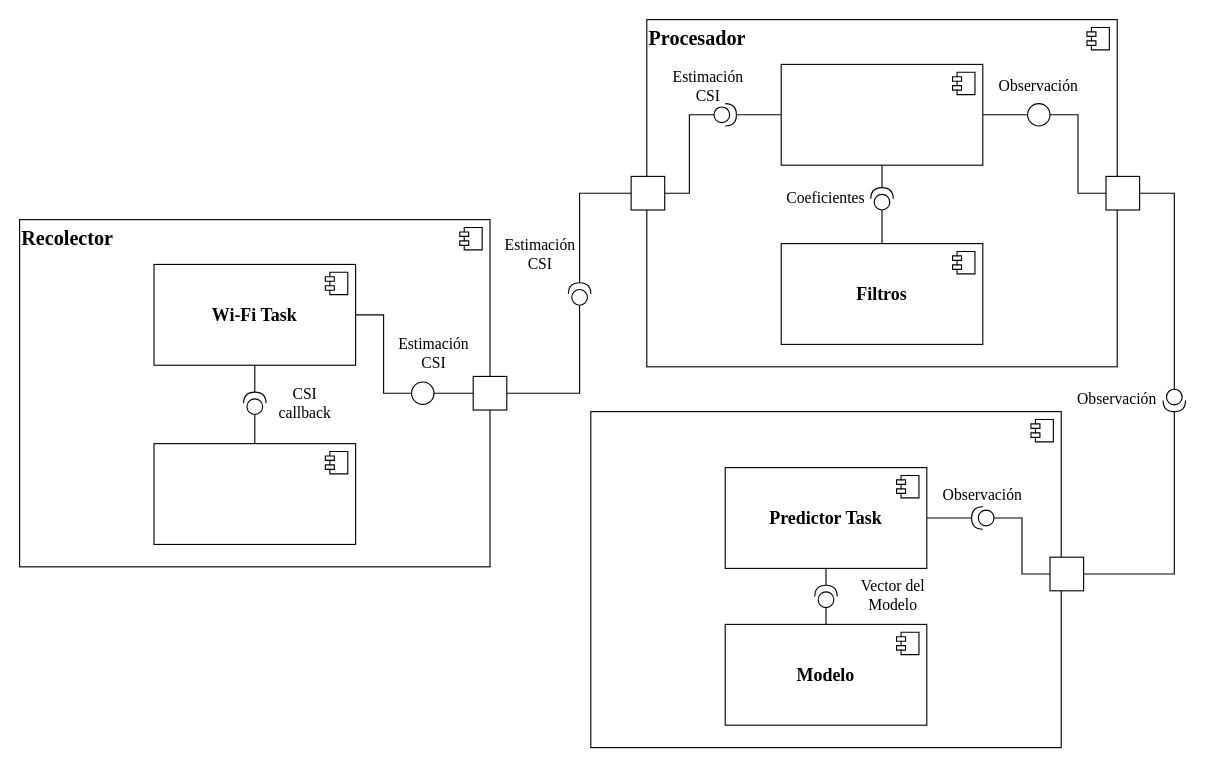
Image size: 1205x767. Some labels were removed from this diagram. Here are the shapes that lost their labels. From the top down, the box of each, then its label:
(780, 63, 983, 165): Processor Task
(153, 443, 356, 544): CSI Task
(590, 410, 1061, 748): Clasificador
